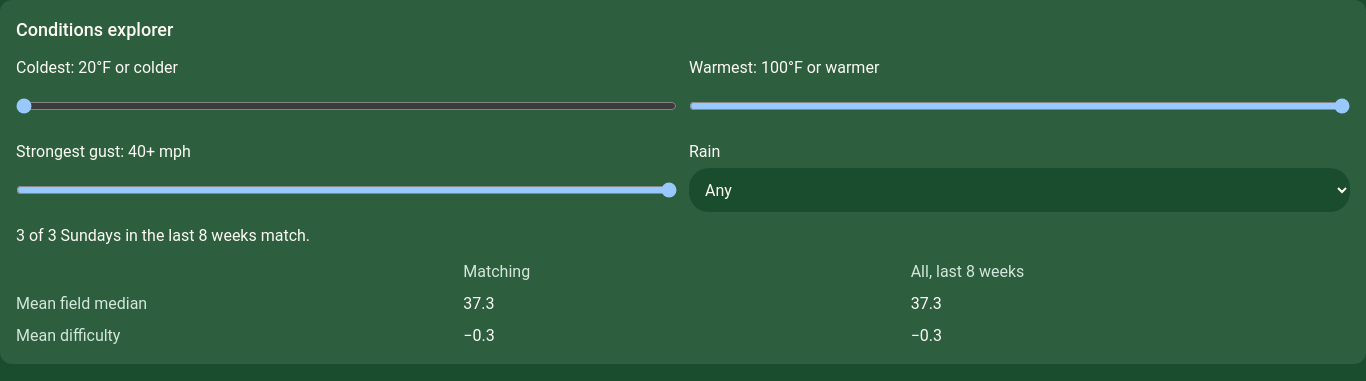
Test: ConditionsExplorer › filters by gust and rain and keeps the choice in the URL
The width and height of the screenshot is (1366, 381).
Set the slider labelled "Strongest gust: 40+ mph" to "10": (185, 190) [16,168,677,212]
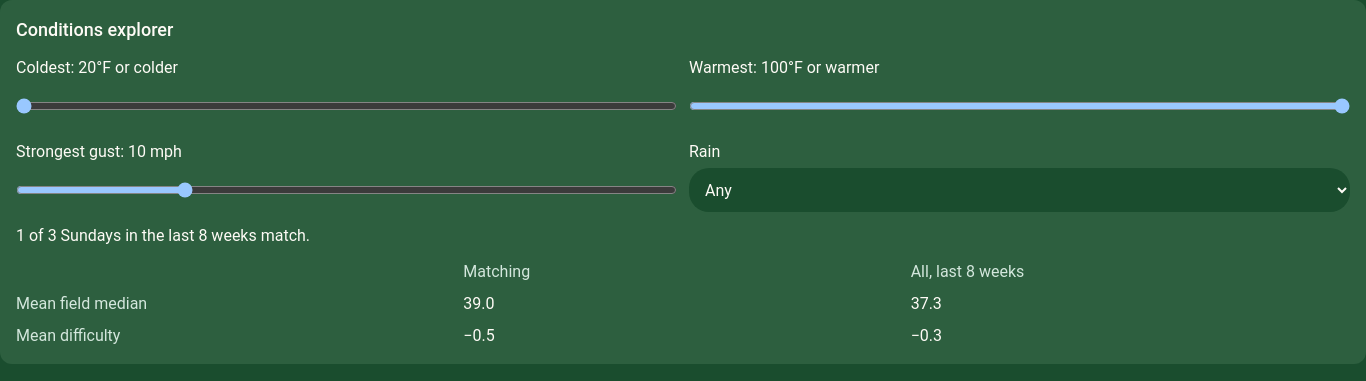
Now the text "1 of 3 Sundays in the last 8 weeks match." is shown, box [16,226,310,245]
Select "Wet" in the dropdown labelled "Rain": (1020, 190) [689,168,1350,212]
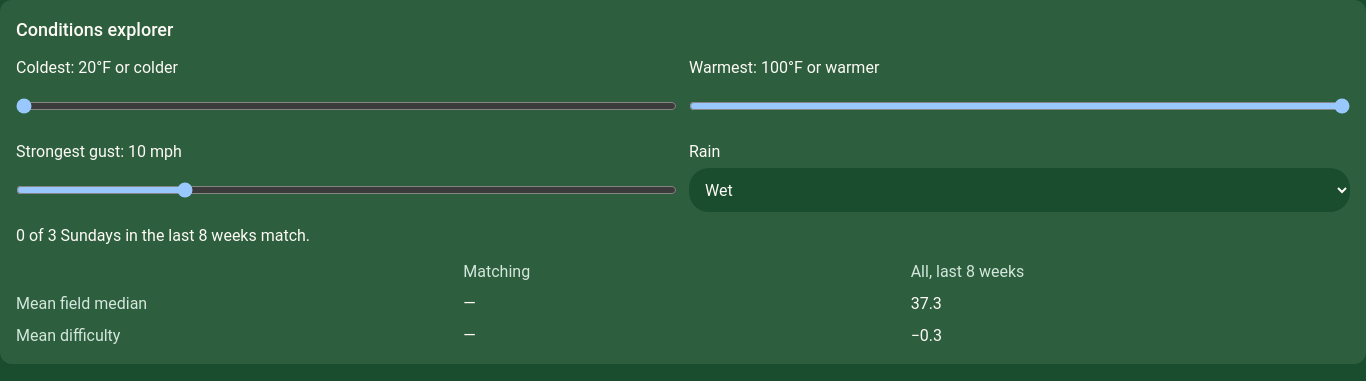
Now the text "0 of 3 Sundays in the last 8 weeks match." is shown, box [16,226,310,245]
